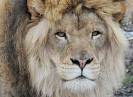lion: (5, 3, 126, 97)
